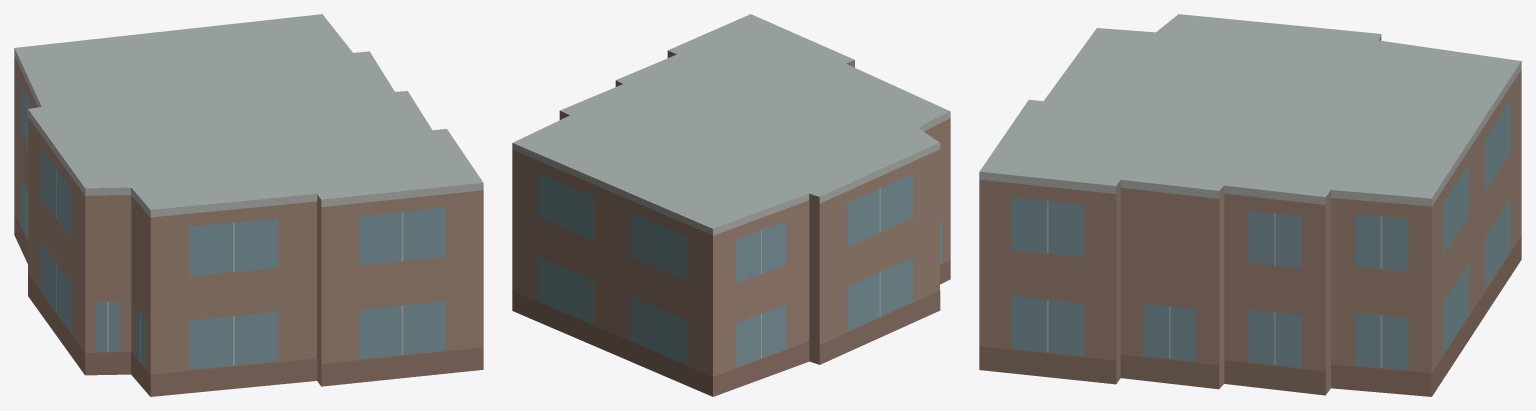
File: survey-upis-33026660.glb
3 views of the same model, side by side, from view 1: azimuth 30°, elevation 25°; view 2: azimuth 150°, elevation 25°; view 3: azimuth 270°, elevation 25° (orthographic). The views are drawn at different scales.
Visible parts, largest first — view 1: survey-upis-33026660.tmp; view 2: survey-upis-33026660.tmp; view 3: survey-upis-33026660.tmp.
Part boxes in pixels (x1,y1,x2,y2): survey-upis-33026660.tmp: (14, 14, 483, 396); survey-upis-33026660.tmp: (512, 14, 950, 396); survey-upis-33026660.tmp: (979, 14, 1521, 396).
Bounding box in the file's own units: 12.19 × 6.1 × 15.13.
